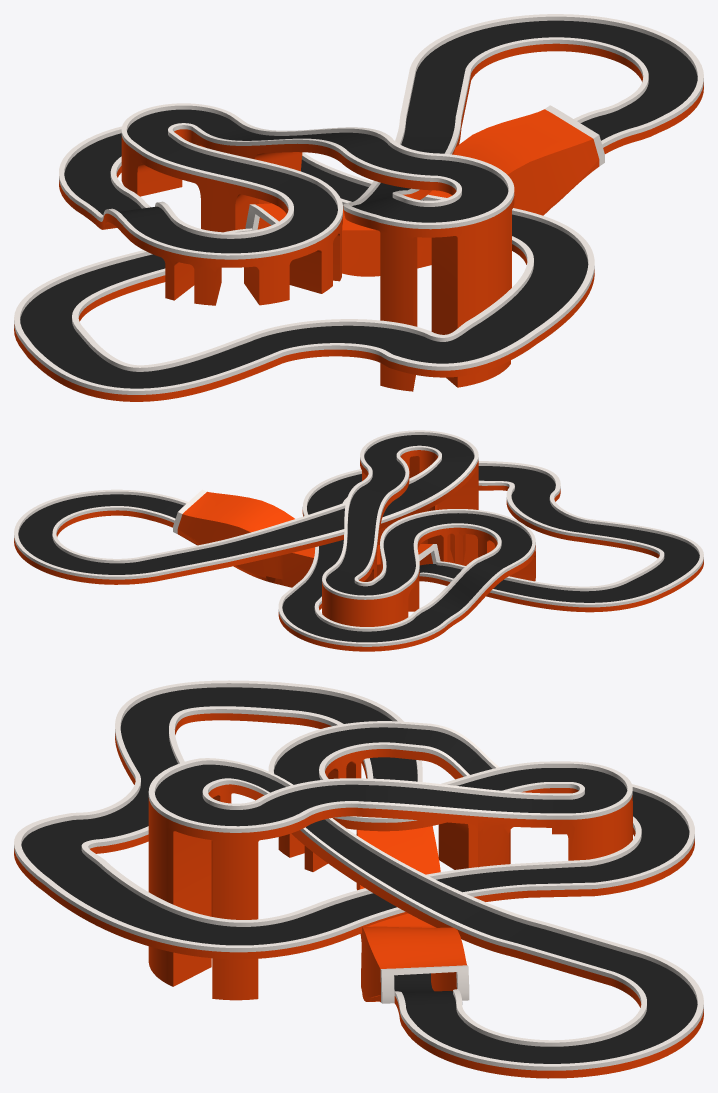
Rendered from trackfin.fbx.
3 renders of one model, top to bottom at view 1: azimuth 30°, elevation 25°; view 2: azimuth 150°, elevation 25°; view 3: azimuth 270°, elevation 25°, orthographic. The views are drawn at different scales.
Visible parts, largest first — view 1: Plane.002; view 2: Plane.002; view 3: Plane.002.
Part boxes in pixels (x1=…): Plane.002: x1=14, y1=14, x2=703, y2=401; Plane.002: x1=14, y1=430, x2=703, y2=651; Plane.002: x1=14, y1=680, x2=703, y2=1078.
Bounding box in the file's own units: 11742 × 2367 × 8597.
